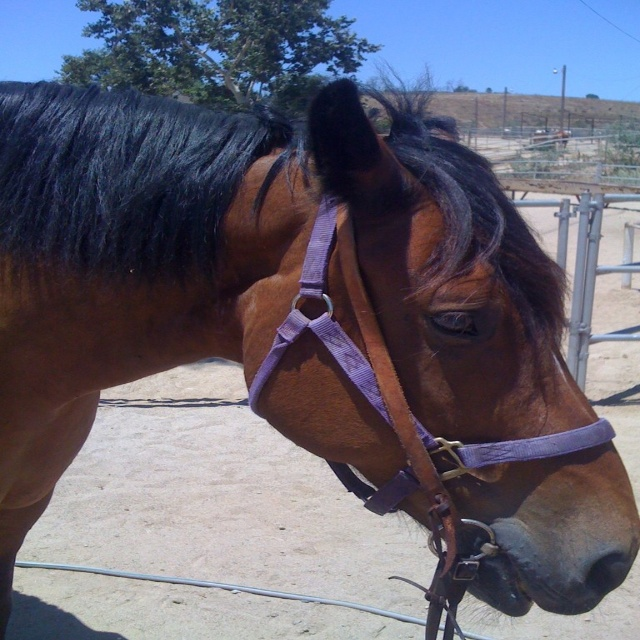Horse: (1, 0, 640, 640)
